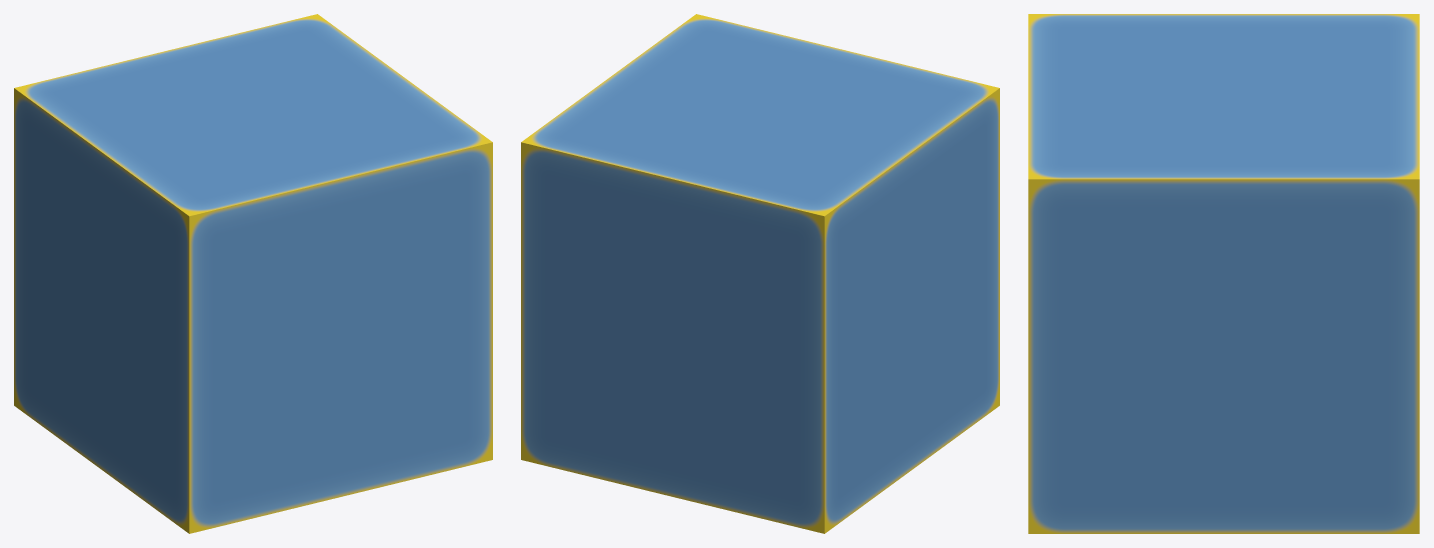
The model's file is plus5.fbx.
3 renders of one model, left to right at view 1: azimuth 30°, elevation 25°; view 2: azimuth 150°, elevation 25°; view 3: azimuth 270°, elevation 25°, orthographic. The views are drawn at different scales.
Parts seen in each view (by area): view 1: pCube1; view 2: pCube1; view 3: pCube1.
Part boxes in pixels (left/top/right/bottom): pCube1: left=14, top=14, right=492, bottom=533; pCube1: left=521, top=14, right=999, bottom=533; pCube1: left=1028, top=14, right=1419, bottom=533.
Size of the model in its own units: 7 by 7 by 7.
Materials: 2 (2 with a texture image).
